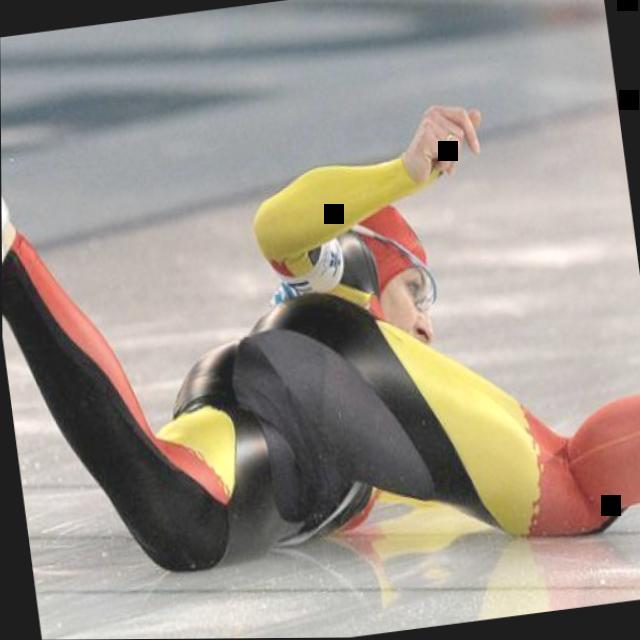Fall-Detected: (0, 2, 640, 624)
